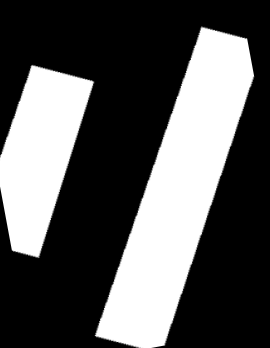parkingspot: (95, 27, 254, 348), (0, 65, 94, 258)
